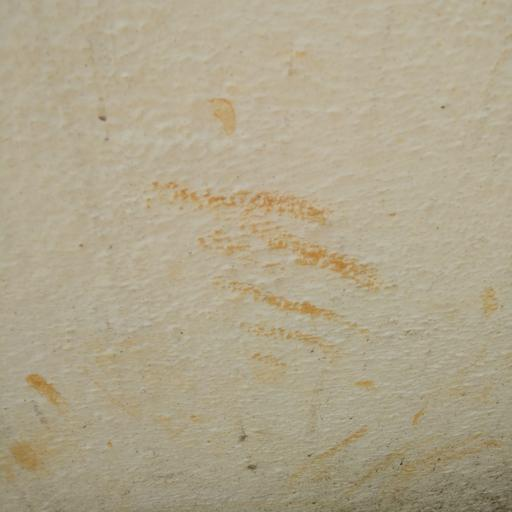stain: (127, 77, 407, 440)
